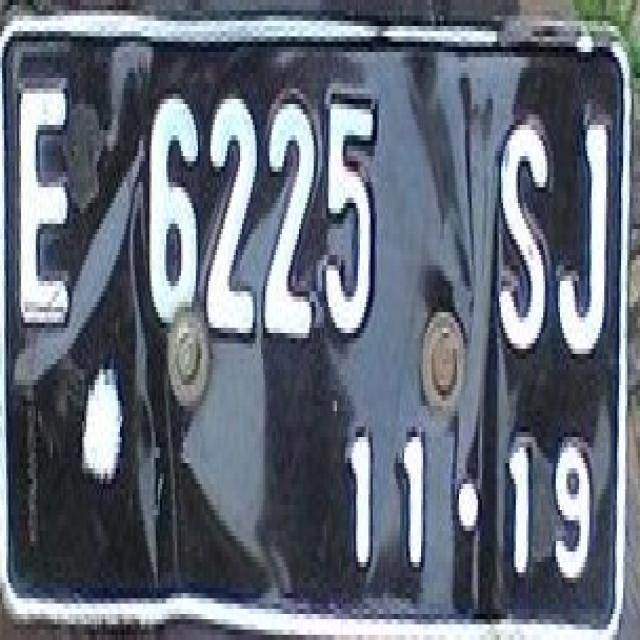plate: (0, 5, 627, 634)
